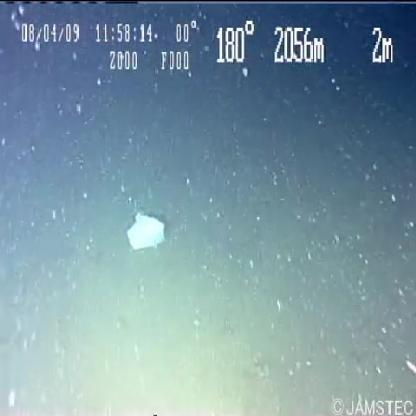Rác: (116, 206, 186, 255)
